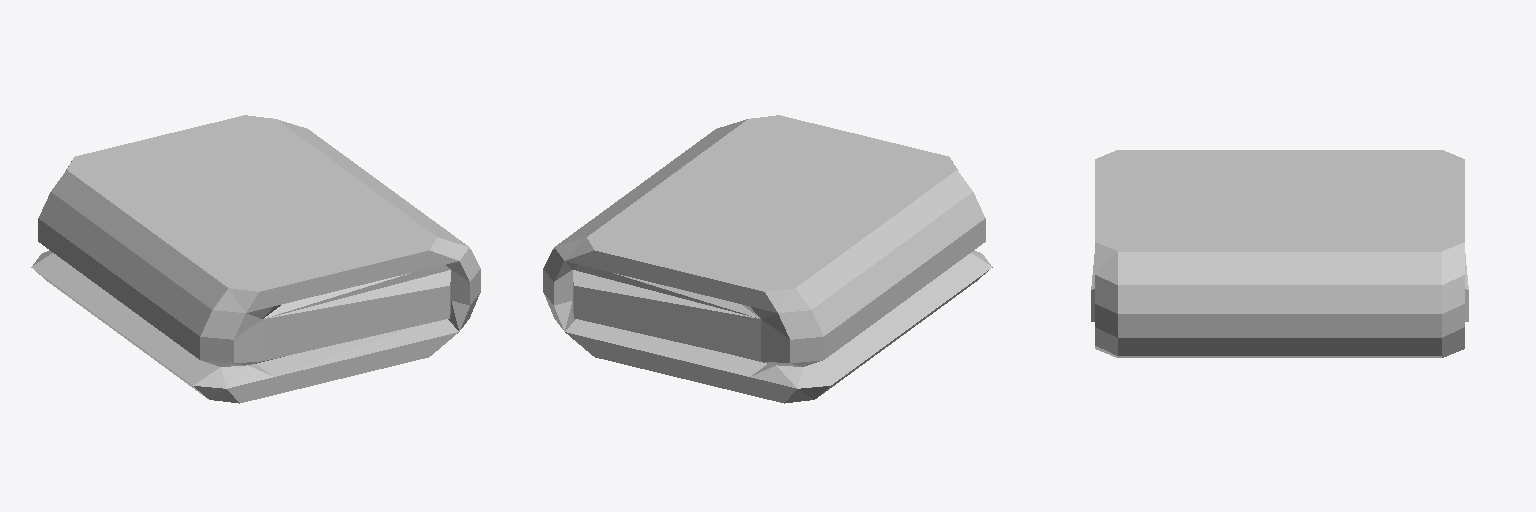
Rendered from Room_301_0_14.obj.
The picture shows the model from 3 angles: view 1: azimuth 30°, elevation 25°; view 2: azimuth 150°, elevation 25°; view 3: azimuth 270°, elevation 25°; orthographic projection.
Visible parts, largest first — view 1: Towel; view 2: Towel; view 3: Towel.
Boxes of the visible parts, box(x1,y1,x2,y2) form: Towel: box(31, 115, 480, 403); Towel: box(543, 115, 992, 403); Towel: box(1091, 150, 1468, 357).
Bounding box in the file's own units: 0.4533 × 0.1609 × 0.5154.